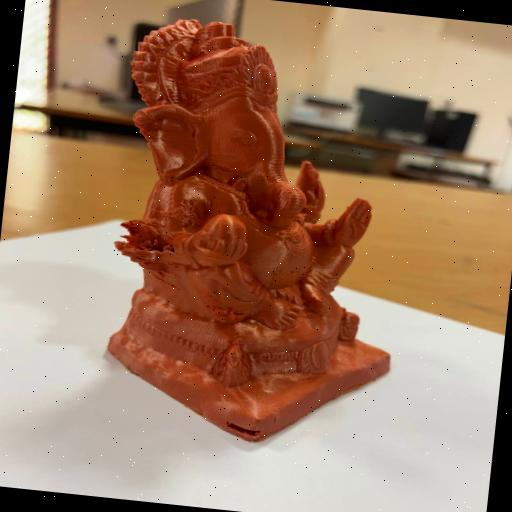cracks: (113, 208, 179, 270), (222, 420, 269, 443)
